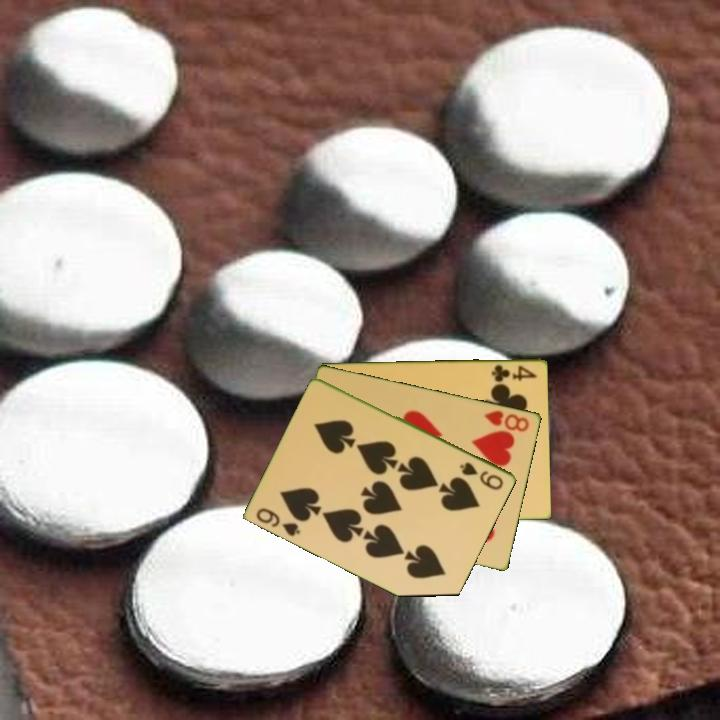4c: (488, 361, 540, 384)
8h: (481, 406, 533, 434)
9s: (253, 504, 304, 539), (457, 458, 507, 493)
